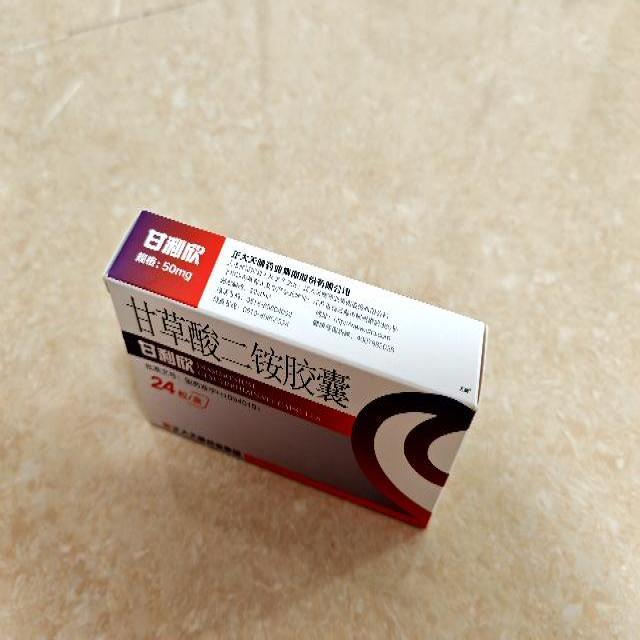box: (104, 209, 486, 532)
